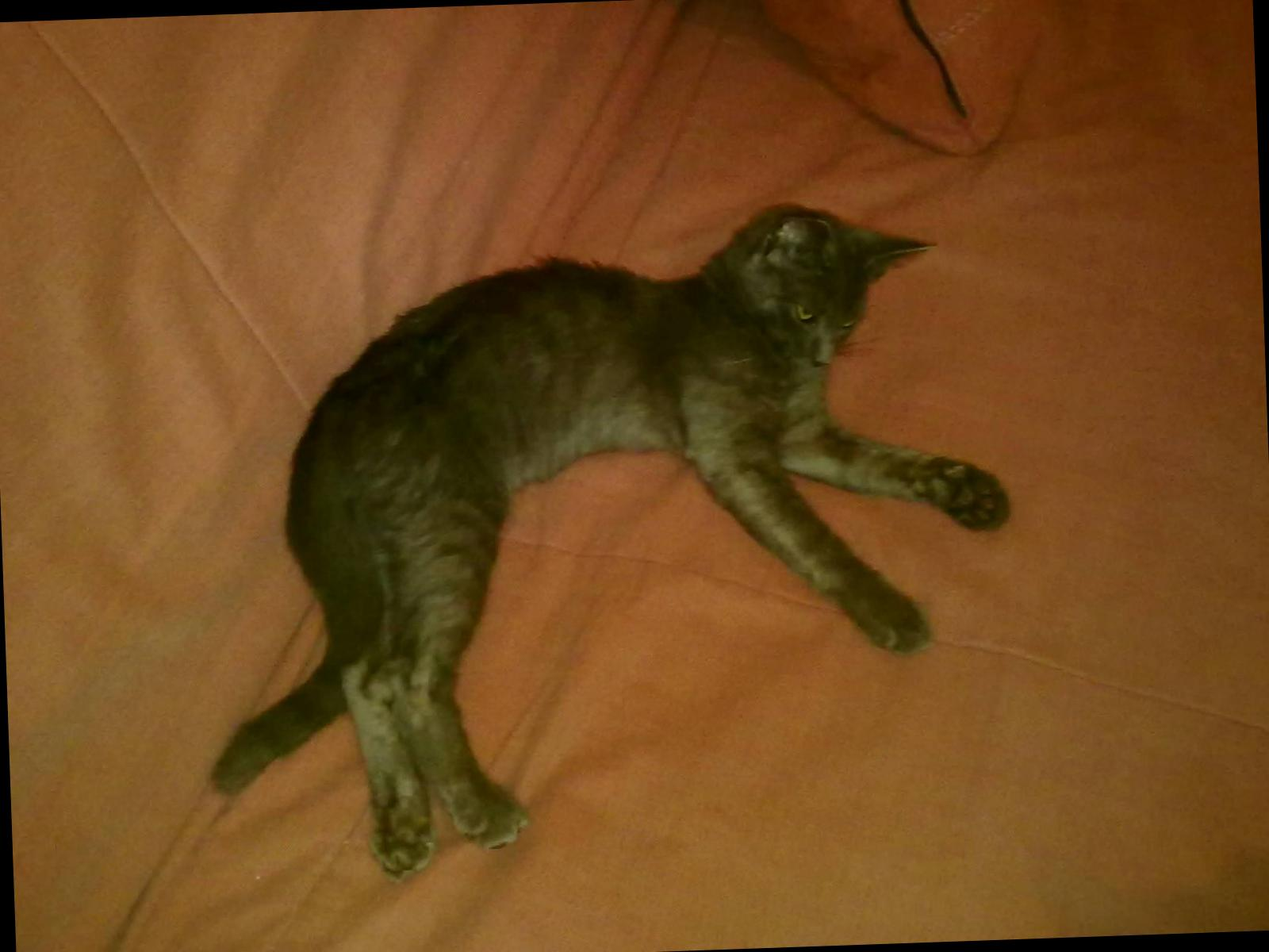macka: (188, 188, 1025, 885)
